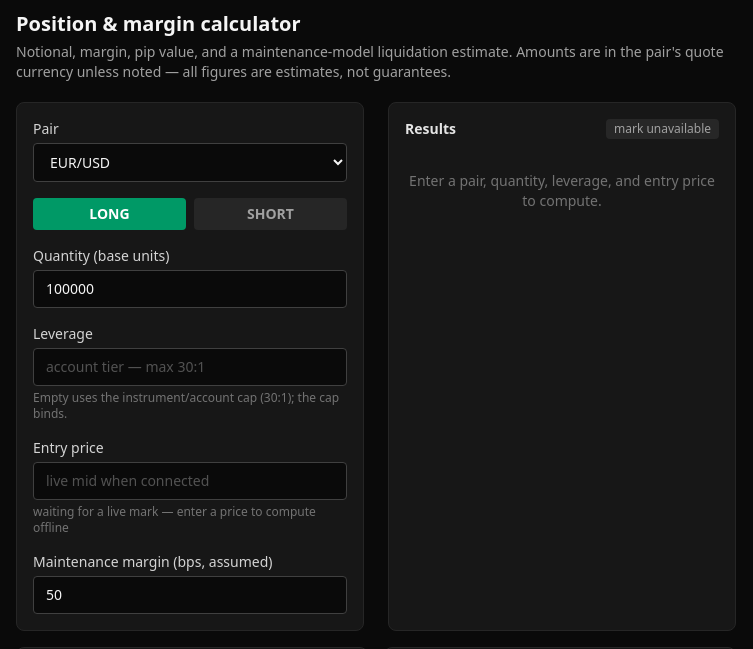
Test: CalculatorPage › labels the JPY pair pip convention
Select "USD/JPY" in the dropdown labelled "Pair". click: (190, 162)
box: [33,143,347,182]
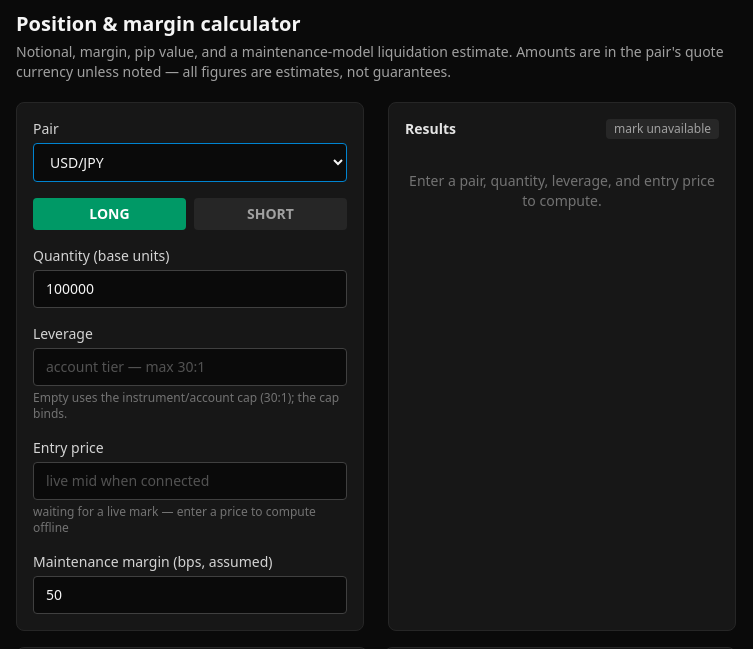
Type "150" into the field labelled "Entry price". click: (190, 481)
box: [33,462,347,500]
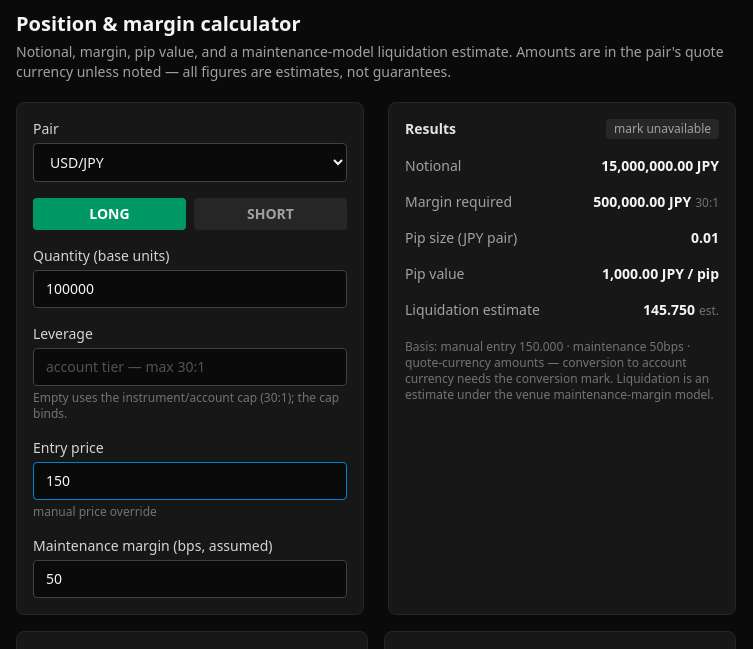
Result: the text "Pip size (JPY pair)" is shown at [405,228,517,248]
Result: the text "0.01" is shown at [691,228,719,247]
